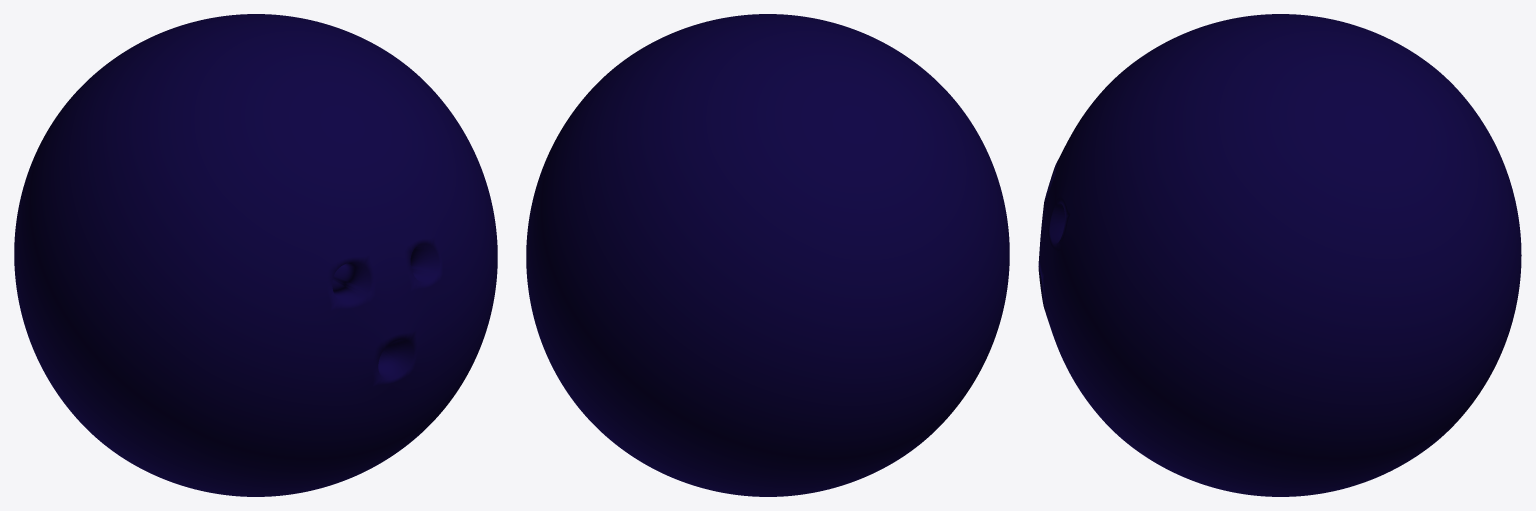
Rendered from BowlingBallSizeTest.fbx.
3 renders of one model, left to right at view 1: azimuth 30°, elevation 25°; view 2: azimuth 150°, elevation 25°; view 3: azimuth 270°, elevation 25°, orthographic.
Parts seen in each view (by area): view 1: Cube; view 2: Cube; view 3: Cube.
Part boxes in pixels (x1,y1,x2,y2): Cube: (14, 14, 497, 496); Cube: (526, 14, 1009, 496); Cube: (1038, 14, 1521, 496).
Size of the model in its own units: 10 by 10 by 10.03.
